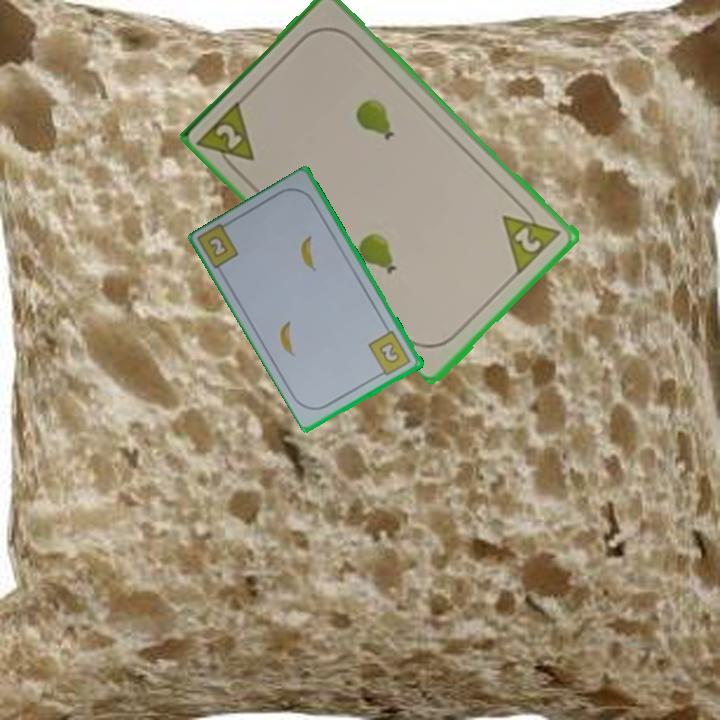2b: (365, 327, 414, 380), (204, 232, 231, 261)
2p: (498, 197, 565, 276), (195, 96, 258, 179)
